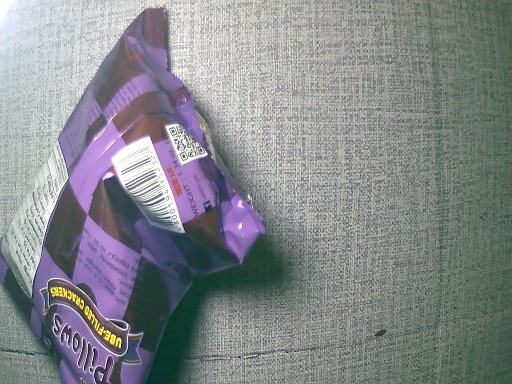plastic: (1, 10, 261, 384)
